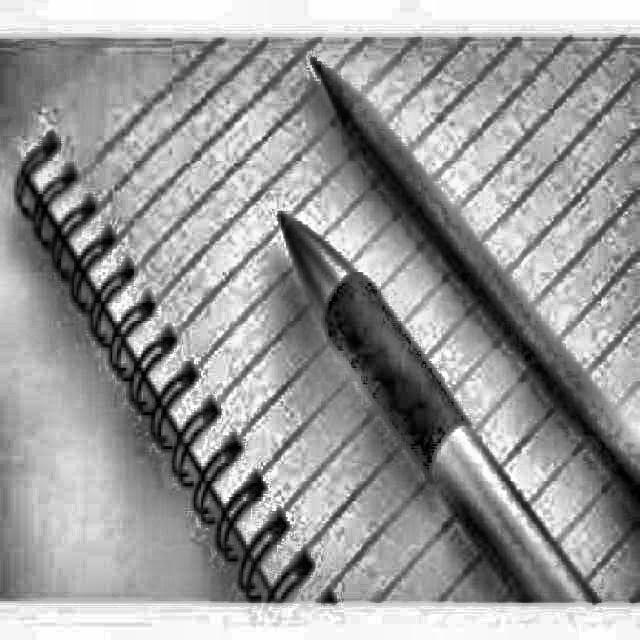Pen: (254, 172, 635, 640)
